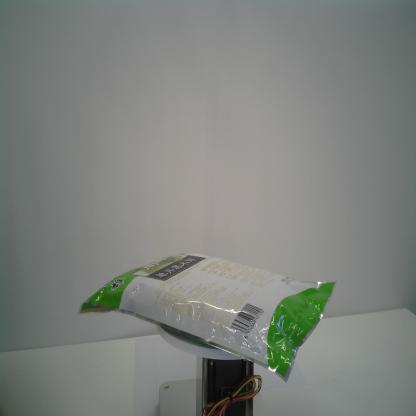Dried Food: (78, 252, 337, 383)
